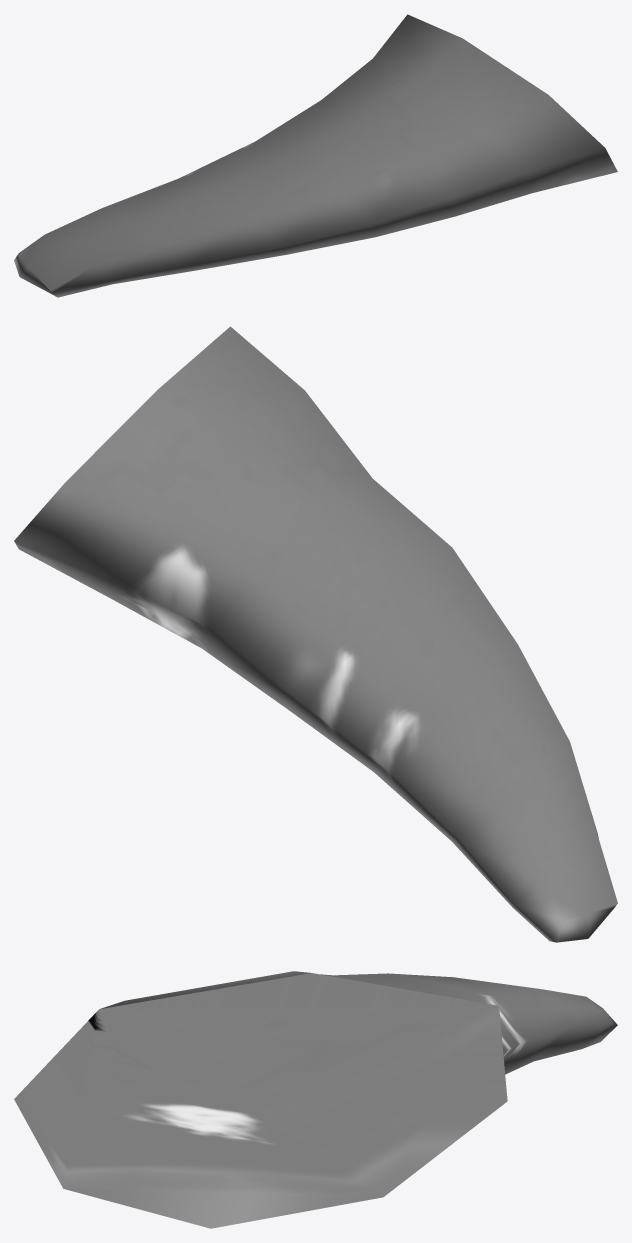
Rendered from aletaD.obj.
3 views of the same model, one above another, from view 1: azimuth 30°, elevation 25°; view 2: azimuth 150°, elevation 25°; view 3: azimuth 270°, elevation 25° (orthographic). The views are drawn at different scales.
Parts seen in each view (by area): view 1: Shark_Mesh; view 2: Shark_Mesh; view 3: Shark_Mesh.
Boxes of the visible parts, x1,y1,x2,y2 form: Shark_Mesh: (14, 14, 617, 297); Shark_Mesh: (14, 326, 617, 942); Shark_Mesh: (14, 971, 617, 1228).
Bounding box in the file's own units: 81.31 × 37.33 × 59.21.
1 material, 1 textured.
